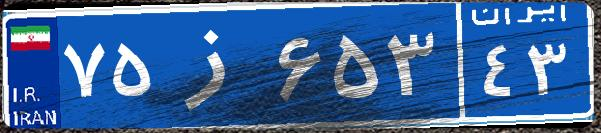3: (385, 28, 445, 110), (525, 38, 570, 115)
4: (475, 38, 525, 113)
5: (330, 28, 385, 110), (110, 28, 158, 105)
6: (273, 28, 330, 110)
7: (57, 26, 110, 107)
ز: (158, 15, 273, 115)
